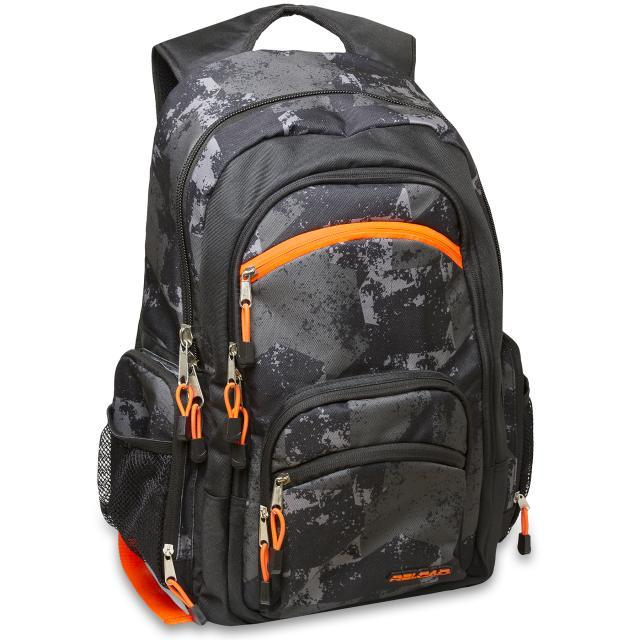Backpacks: (109, 46, 532, 622)
